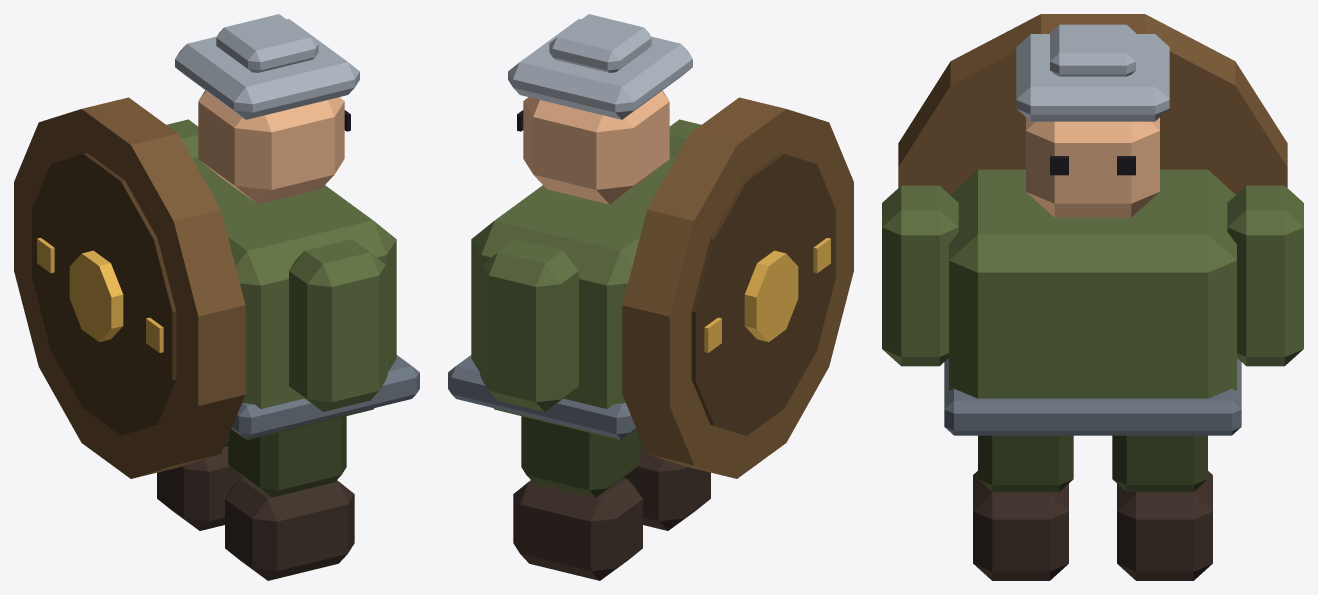
Rendered from shieldback.glb.
3 views of the same model, side by side, from view 1: azimuth 30°, elevation 25°; view 2: azimuth 150°, elevation 25°; view 3: azimuth 270°, elevation 25° (orthographic). The views are drawn at different scales.
Visible parts, largest first — view 1: shieldback; view 2: shieldback; view 3: shieldback.
Boxes of the visible parts, x1=… form: shieldback: x1=14, y1=14, x2=419, y2=580; shieldback: x1=448, y1=14, x2=853, y2=580; shieldback: x1=882, y1=14, x2=1303, y2=580.
Size of the model in its own units: 0.67 by 1.22 by 0.88.
